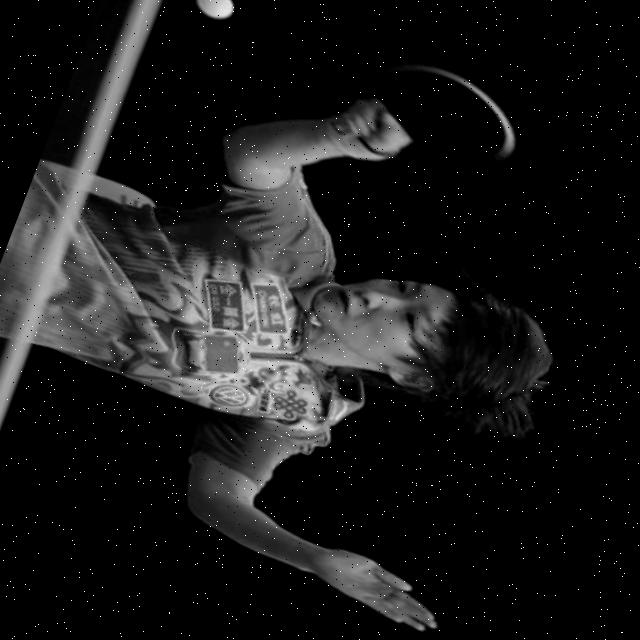ping-pong-ball: (187, 0, 244, 27)
